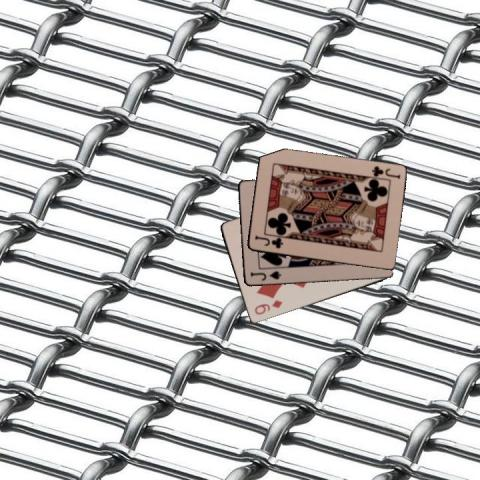9d: (252, 297, 284, 316)
Jc: (251, 233, 284, 250), (369, 163, 401, 180)
Js: (247, 269, 282, 282)
